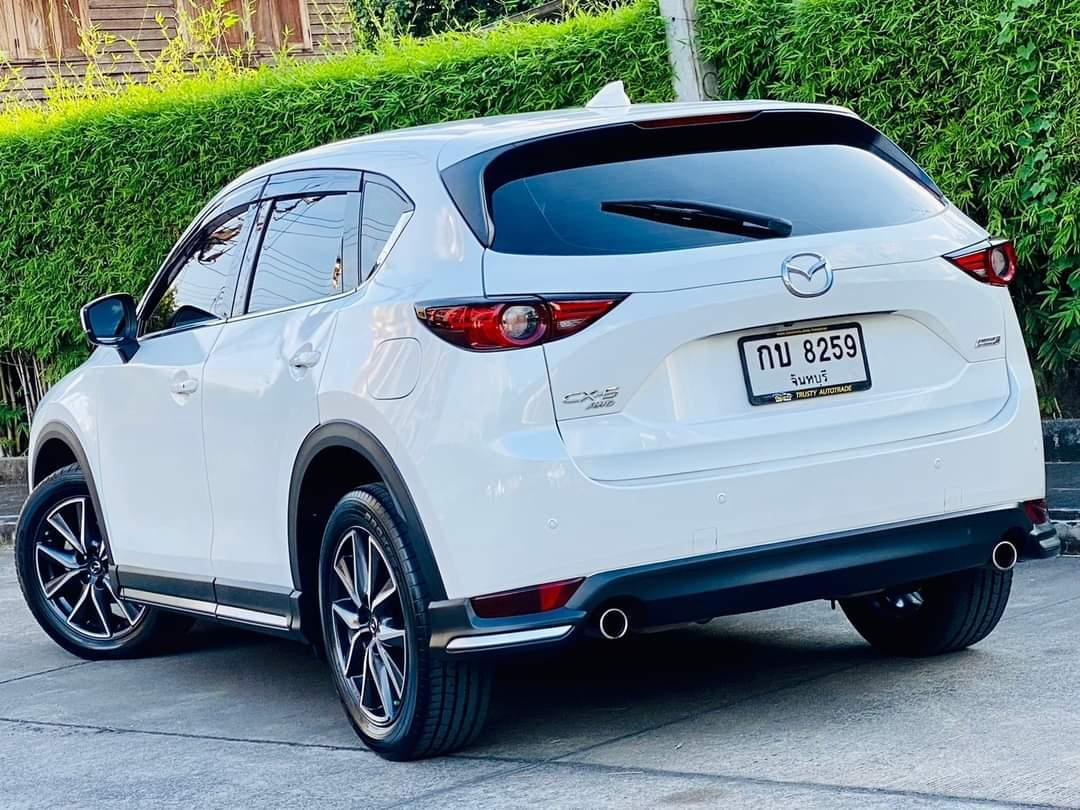license-plate: (735, 316, 874, 414)
